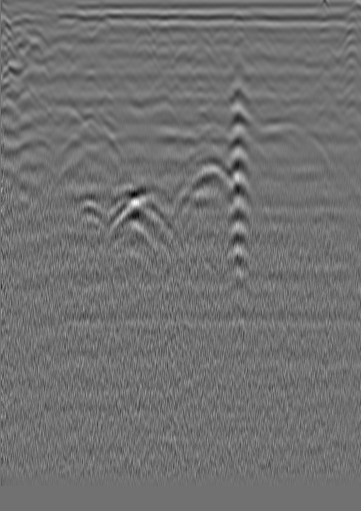가스: (68, 194, 112, 227)
상수: (295, 24, 315, 44)
오수: (24, 38, 44, 58)
우수: (168, 35, 188, 55)
